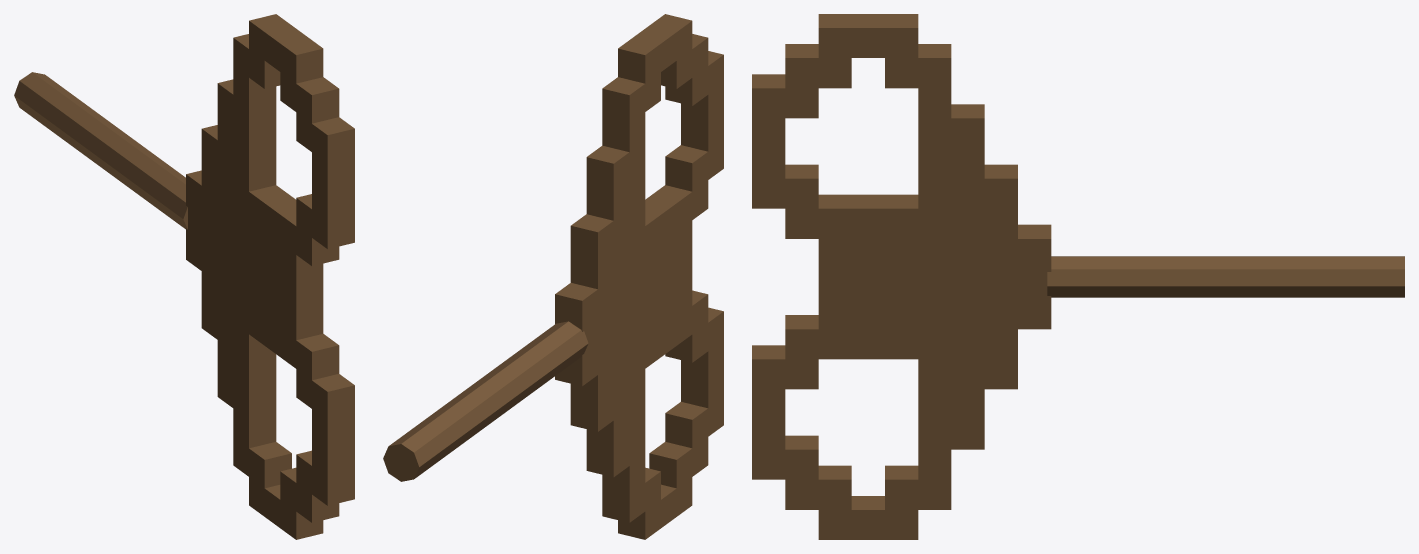
The model's file is F3WindingKey.fbx.
3 views of the same model, side by side, from view 1: azimuth 30°, elevation 25°; view 2: azimuth 150°, elevation 25°; view 3: azimuth 270°, elevation 25° (orthographic). The views are drawn at different scales.
Parts seen in each view (by area): view 1: WindingKey; view 2: WindingKey; view 3: WindingKey.
Boxes of the visible parts, x1,y1,x2,y2 form: WindingKey: [14, 14, 354, 539]; WindingKey: [383, 14, 723, 539]; WindingKey: [752, 14, 1404, 539].
Bounding box in the file's own units: 0.9194 × 11.75 × 13.57.
